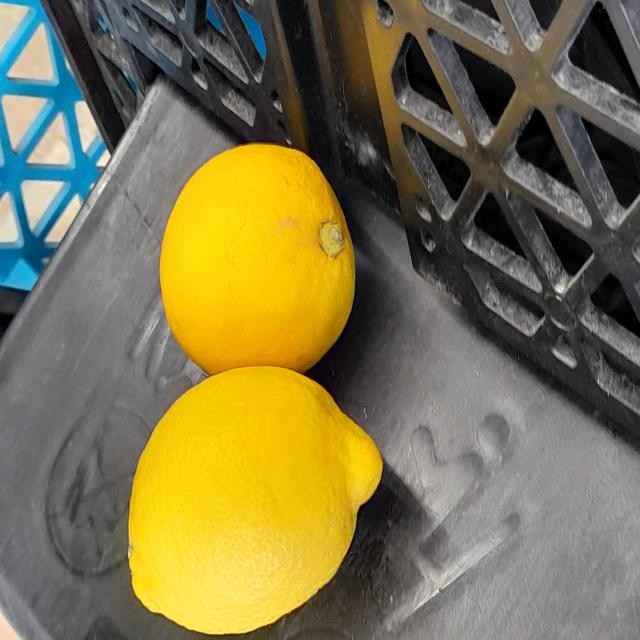lemon: (120, 362, 385, 639), (154, 124, 356, 386)
